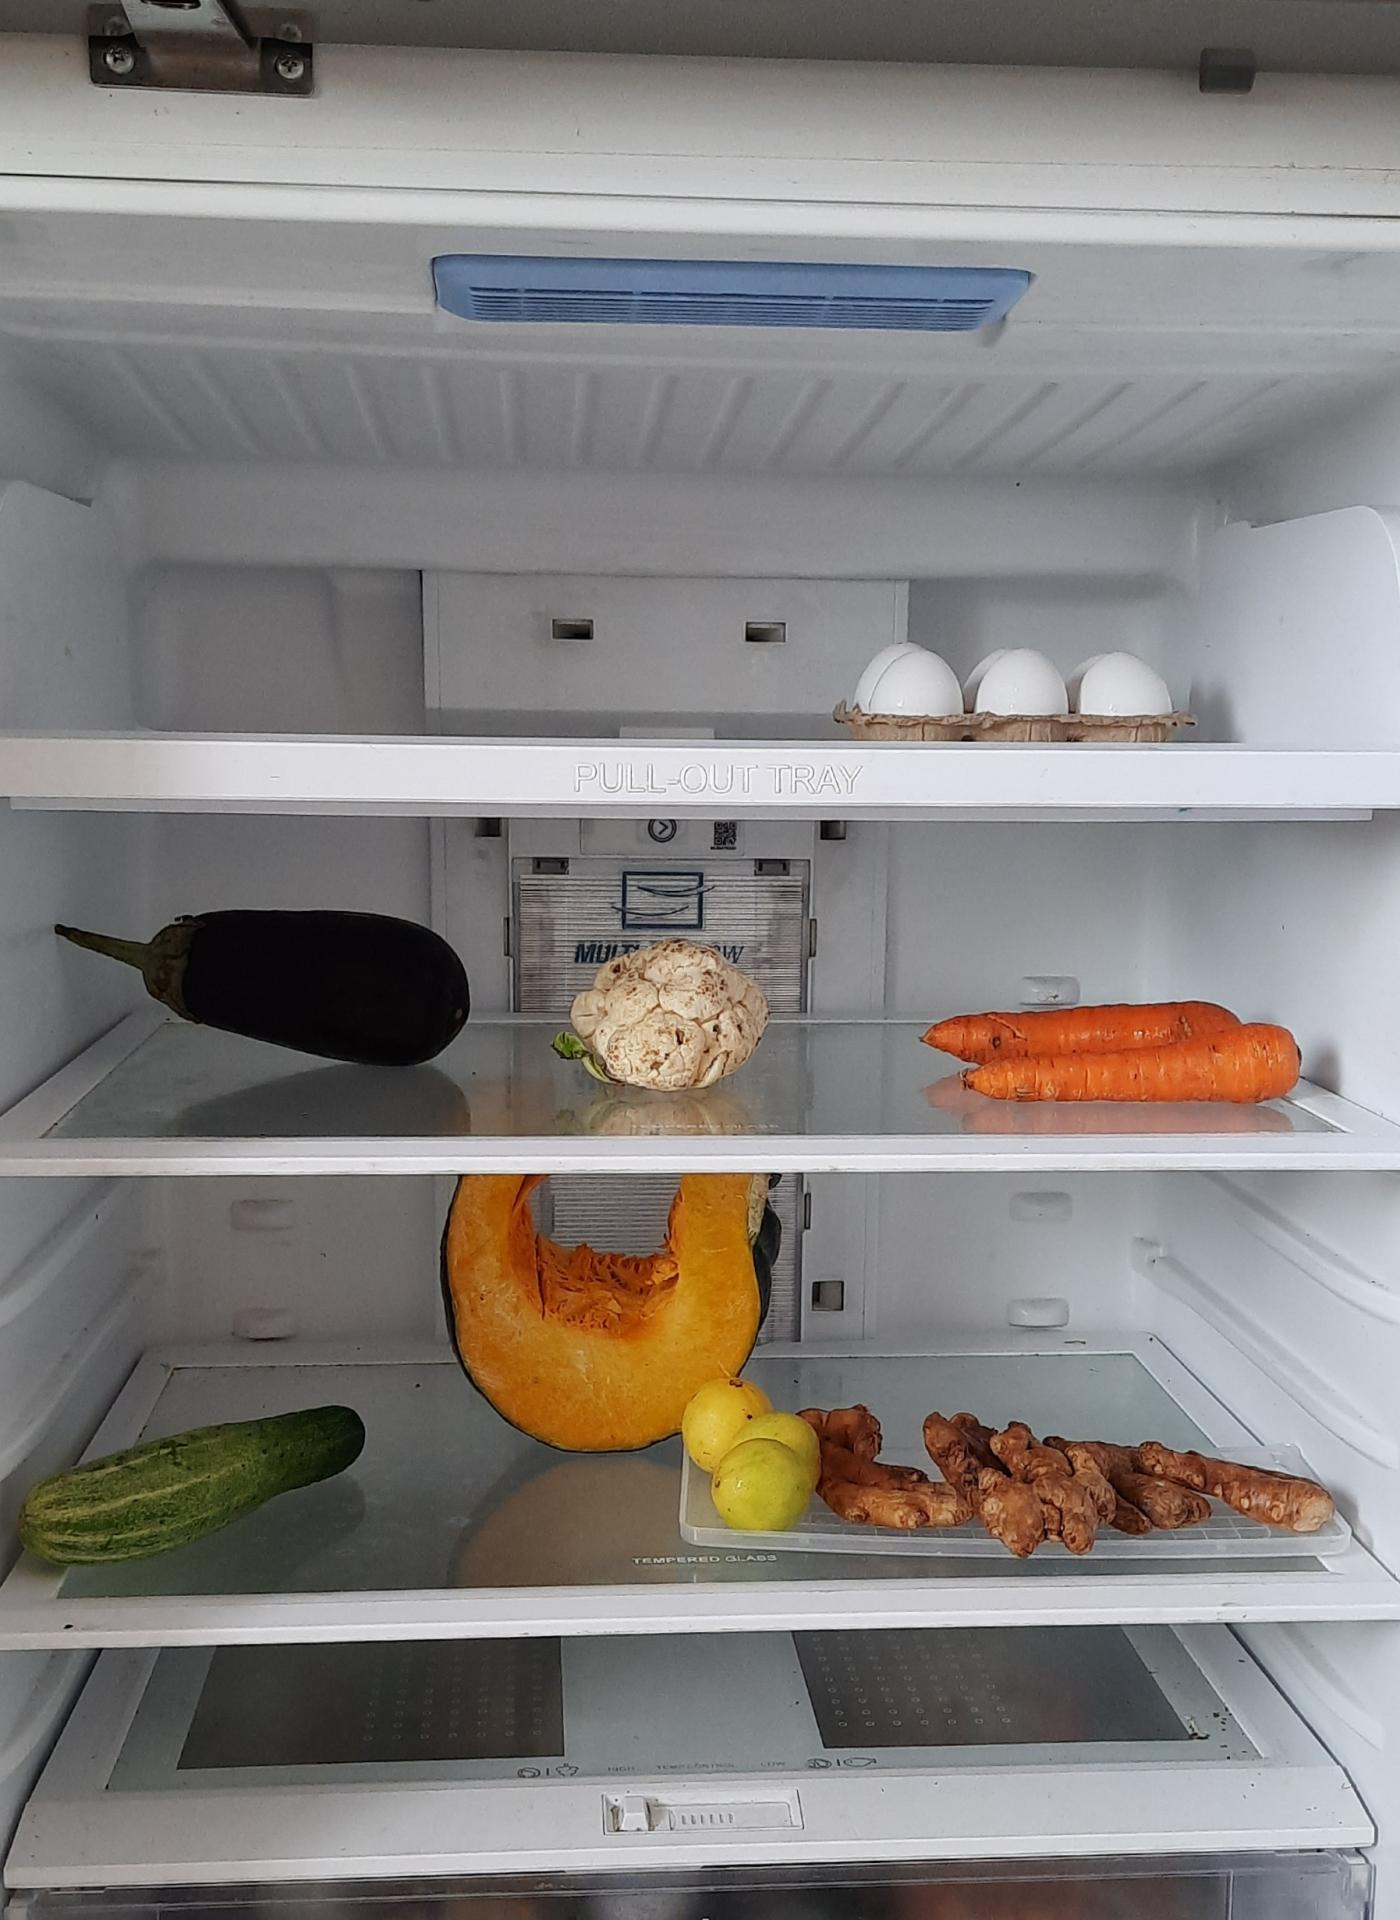brinjal: (36, 888, 480, 1081)
carrots: (924, 999, 1305, 1108)
cauliflower: (571, 947, 777, 1096)
cucumber: (7, 1389, 358, 1550)
egg: (845, 641, 1178, 730)
ginger: (810, 1386, 1336, 1537)
lemon: (689, 1388, 824, 1537)
pumpkin: (422, 1173, 804, 1459)
